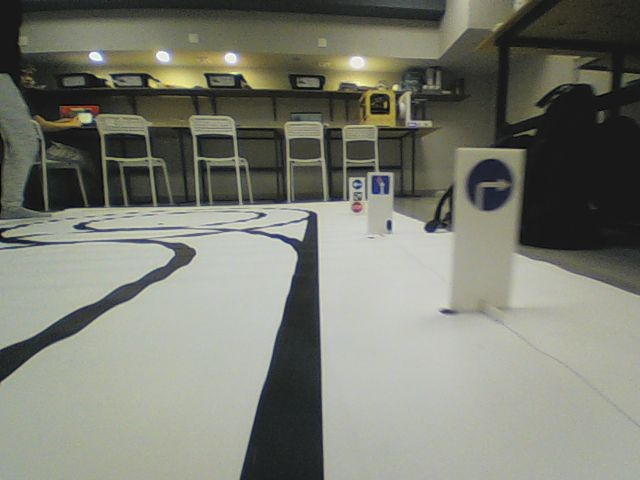Right: (466, 157, 515, 214)
priority_movement: (370, 174, 391, 196)
